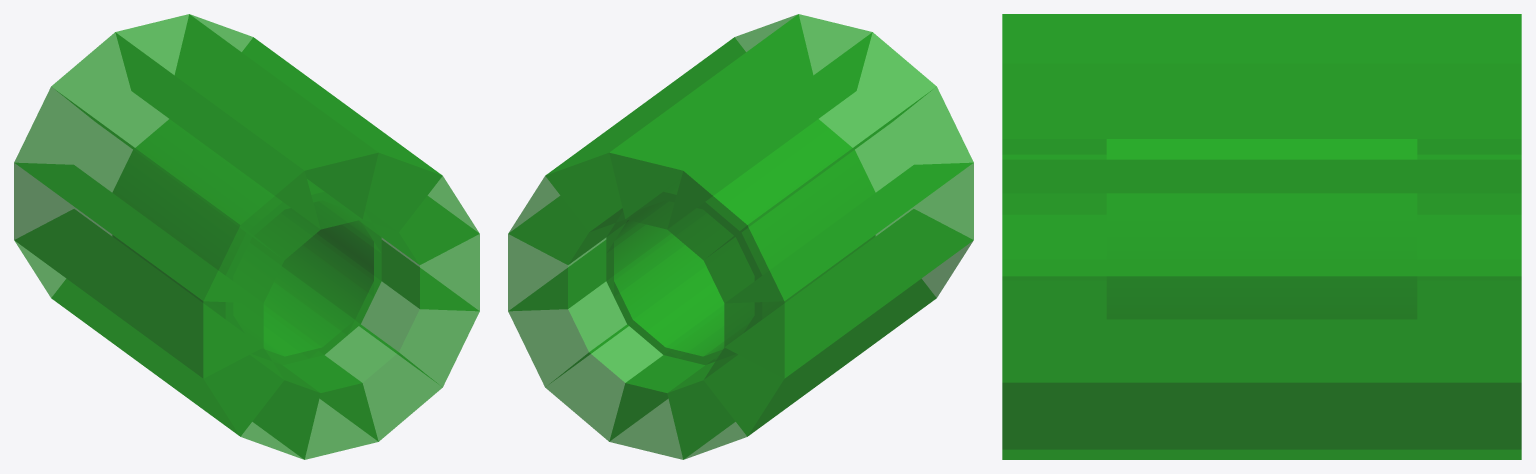
File: ECALBarrel.gltf
The picture shows the model from 3 angles, left to right: view 1: azimuth 30°, elevation 25°; view 2: azimuth 150°, elevation 25°; view 3: azimuth 270°, elevation 25°; orthographic projection. The views are drawn at different scales.
Visible parts, largest first — view 1: stave_inner_0 (×12), stave_outer_7, stave_outer_8, stave_outer_6, stave_outer_9, ECalBarrel_envelope_4, stave_outer_5, stave_outer_10, stave_outer_1, stave_outer_2, stave_outer_0, stave_outer_3 (+6 smaller); view 2: stave_inner_0 (×12), stave_outer_7, stave_outer_8, stave_outer_6, stave_outer_9, ECalBarrel_envelope_4, stave_outer_5, stave_outer_10, stave_outer_1, stave_outer_2, stave_outer_0, stave_outer_3 (+6 smaller); view 3: stave_inner_0 (×6), stave_outer_11, stave_outer_0, stave_outer_10, stave_outer_1, stave_outer_9, stave_outer_2.
Part boxes in pixels (x1,y1,x2,y2): stave_inner_0 (×12): (14,14,479,459); stave_outer_7: (14,87,283,302); stave_outer_8: (51,32,320,259); stave_outer_6: (14,163,263,378); stave_outer_9: (115,14,378,229); ECalBarrel_envelope_4: (235,200,381,364); stave_outer_5: (14,240,283,436); stave_outer_10: (190,14,442,231); stave_outer_1: (361,281,479,386); stave_outer_2: (324,324,442,441); stave_outer_0: (381,234,479,310); stave_outer_3: (282,355,378,459); stave_inner_0 (×12): (508,14,973,459); stave_outer_7: (704,87,973,302); stave_outer_8: (667,32,936,259); stave_outer_6: (724,163,973,378); stave_outer_9: (609,14,872,229); ECalBarrel_envelope_4: (606,200,752,364); stave_outer_5: (704,240,973,436); stave_outer_10: (545,14,797,231); stave_outer_1: (508,281,626,386); stave_outer_2: (545,324,663,441); stave_outer_0: (508,234,606,310); stave_outer_3: (609,355,705,459); stave_inner_0 (×6): (1002,14,1521,459); stave_outer_11: (1002,160,1521,275); stave_outer_0: (1002,276,1521,382); stave_outer_10: (1002,64,1521,159); stave_outer_1: (1002,382,1521,449); stave_outer_9: (1002,14,1521,63); stave_outer_2: (1002,449,1521,459).
Bounding box in the file's own units: 497 × 497 × 590.
